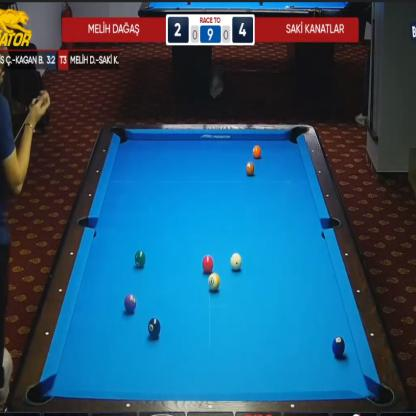Ball: (332, 336, 345, 358), (148, 317, 161, 338), (134, 249, 146, 268), (230, 252, 242, 271), (124, 294, 136, 313), (202, 256, 214, 274), (208, 273, 220, 291), (252, 145, 262, 159), (245, 162, 255, 176)
